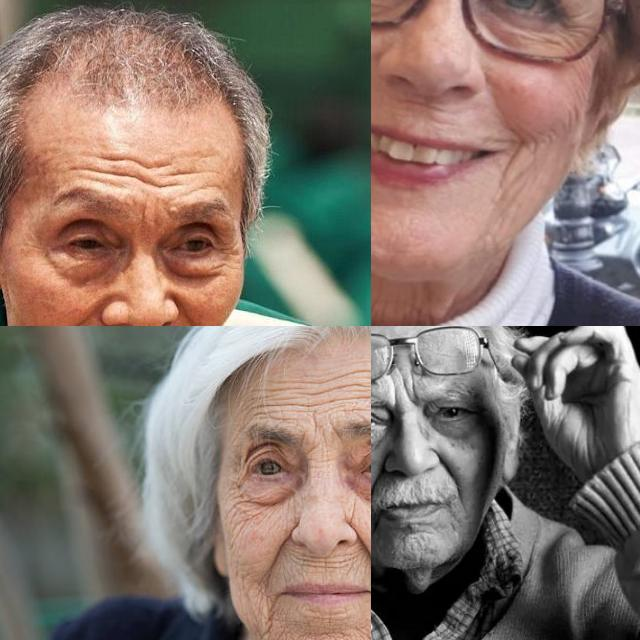bunny_line: (344, 500, 358, 526)
chin: (321, 626, 347, 640), (404, 524, 428, 538), (351, 629, 371, 640), (292, 631, 312, 640)
crows_feet: (562, 20, 588, 56), (228, 471, 244, 512)
forehead: (78, 144, 178, 188), (248, 386, 286, 416), (304, 381, 342, 411), (353, 368, 371, 412)
frown_line: (386, 379, 420, 407), (306, 418, 342, 444), (134, 202, 152, 234)
gummy_smile: (67, 292, 108, 326), (266, 528, 296, 566), (172, 291, 200, 326), (434, 452, 458, 486), (354, 533, 371, 570), (371, 460, 385, 500)
masseter: (556, 96, 582, 132), (234, 568, 250, 594)
sad_smile: (496, 128, 522, 190), (262, 590, 280, 624), (371, 513, 382, 539)
smoker_lines: (304, 556, 348, 578)
